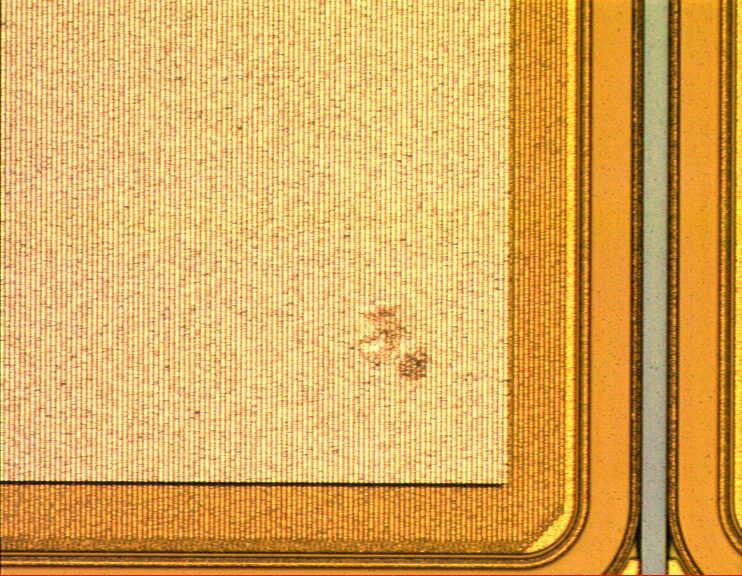SCRATCH: (351, 299, 438, 388)
